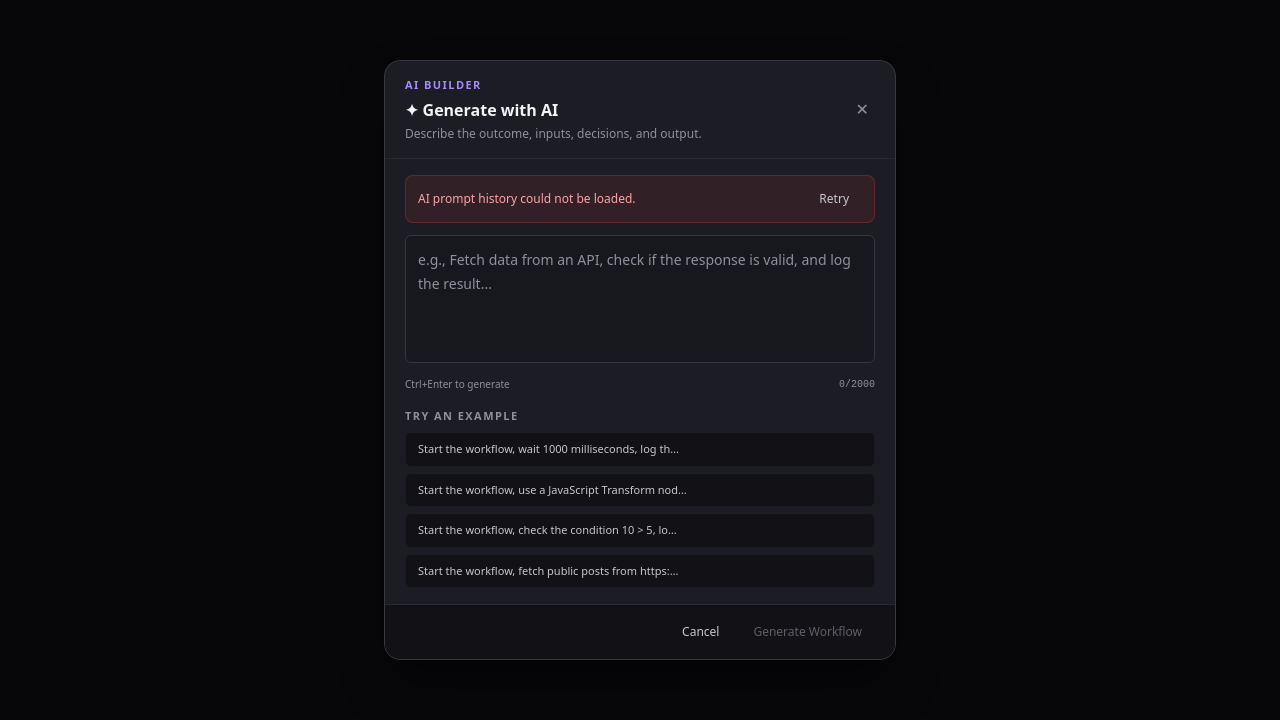
Scenario: AIGeneratorModal current-workflow prompt lineage › keeps context failures distinct and retryable
This screenshot has width=1280, height=720.
Expected: the text "AI prompt history could not be loaded." is shown, [418,190,636,206]
Click the button "Retry" at (834, 198), box [806,184,862,214]
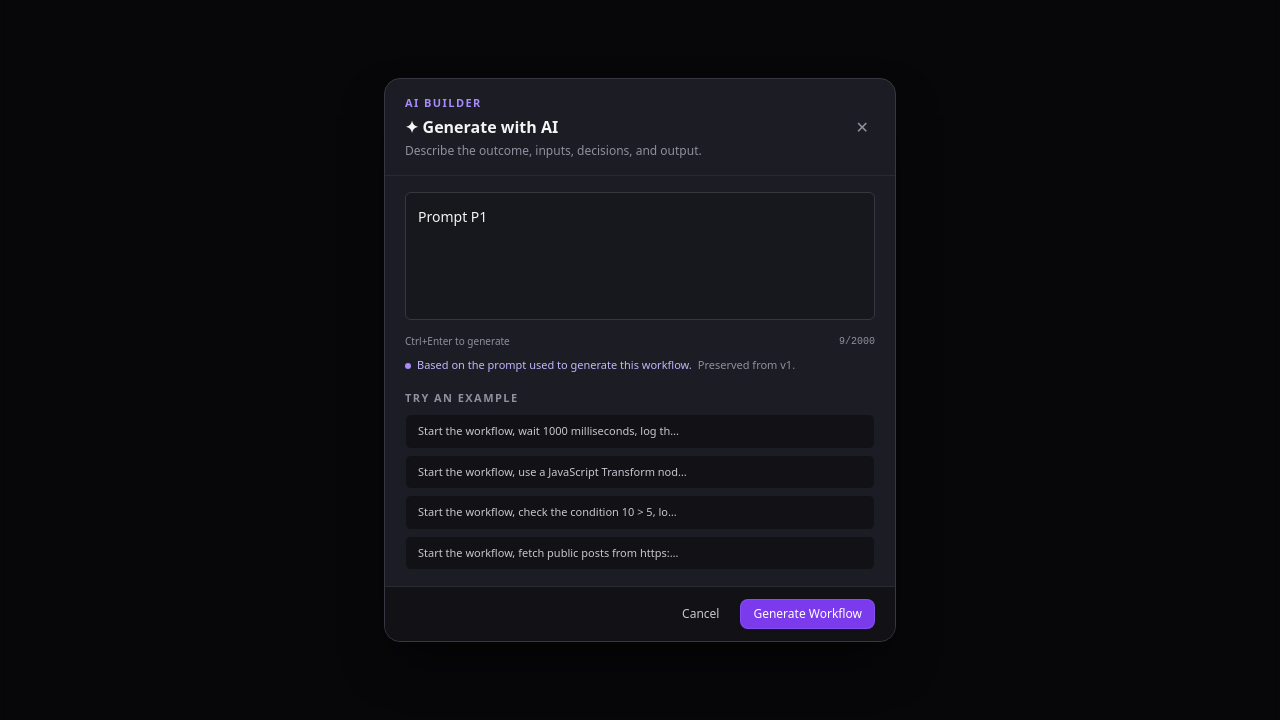
Result: the text box showing "Prompt P1" is shown at [405,192,875,320]
